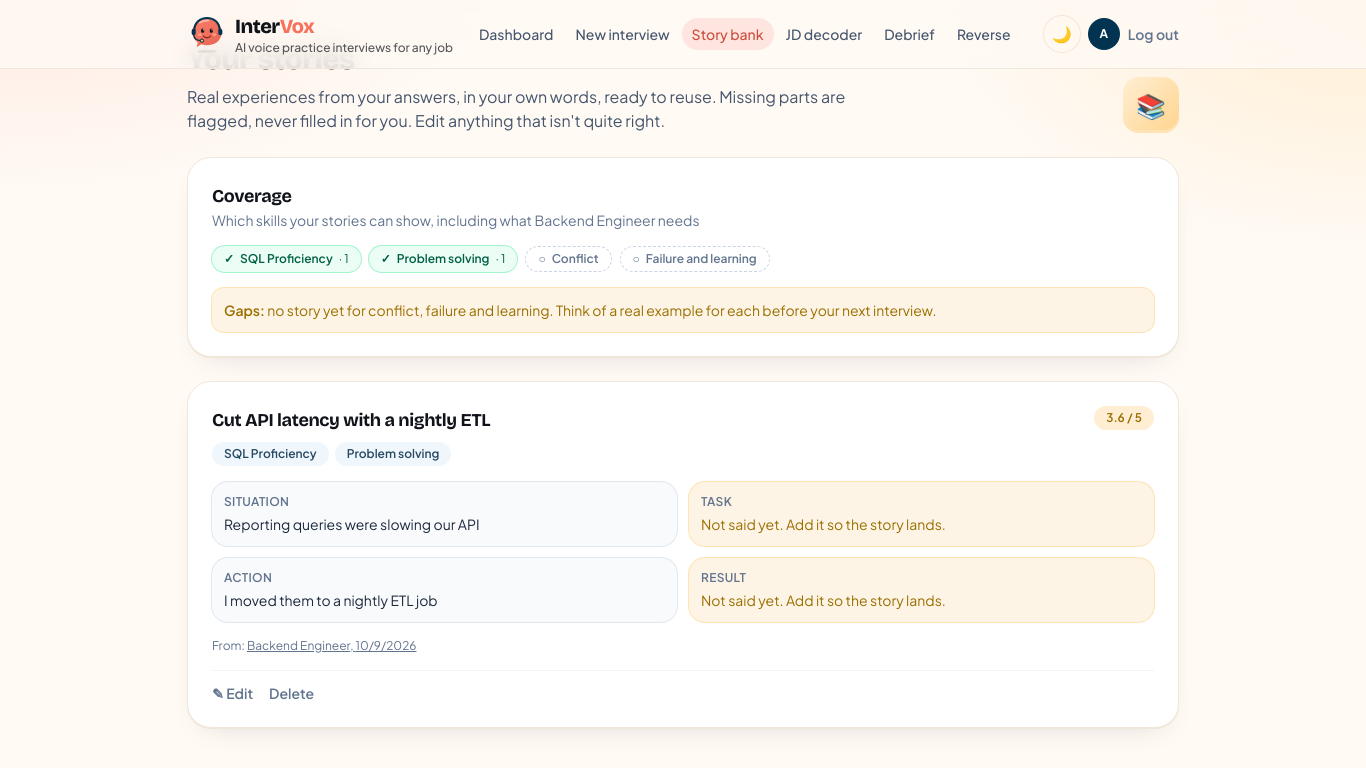
Test: story bank › deletes a story after confirming
(page scrolled)
Click the button "Delete": [292, 693] box [269,683,314,703]
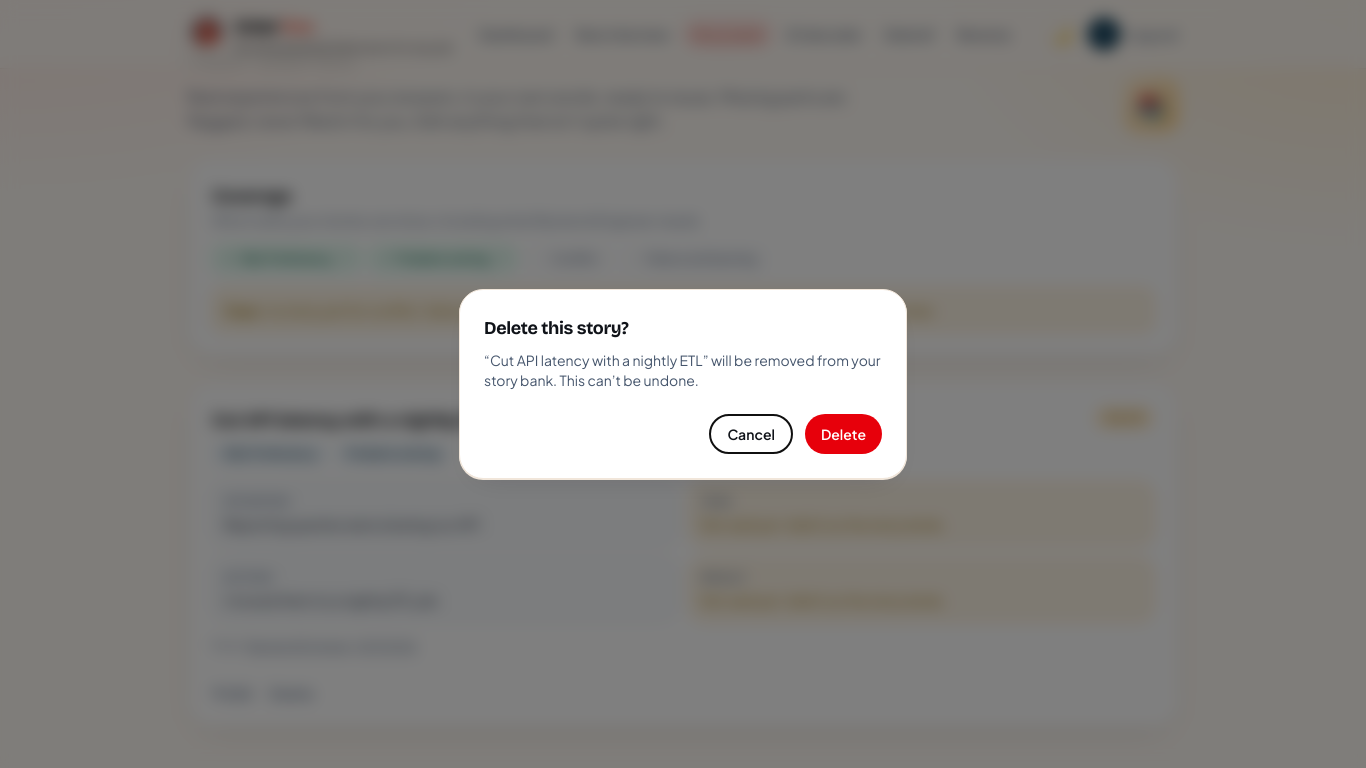
Click the button "Delete": [843, 434] box [805,414,882,454]
(page scrolled)
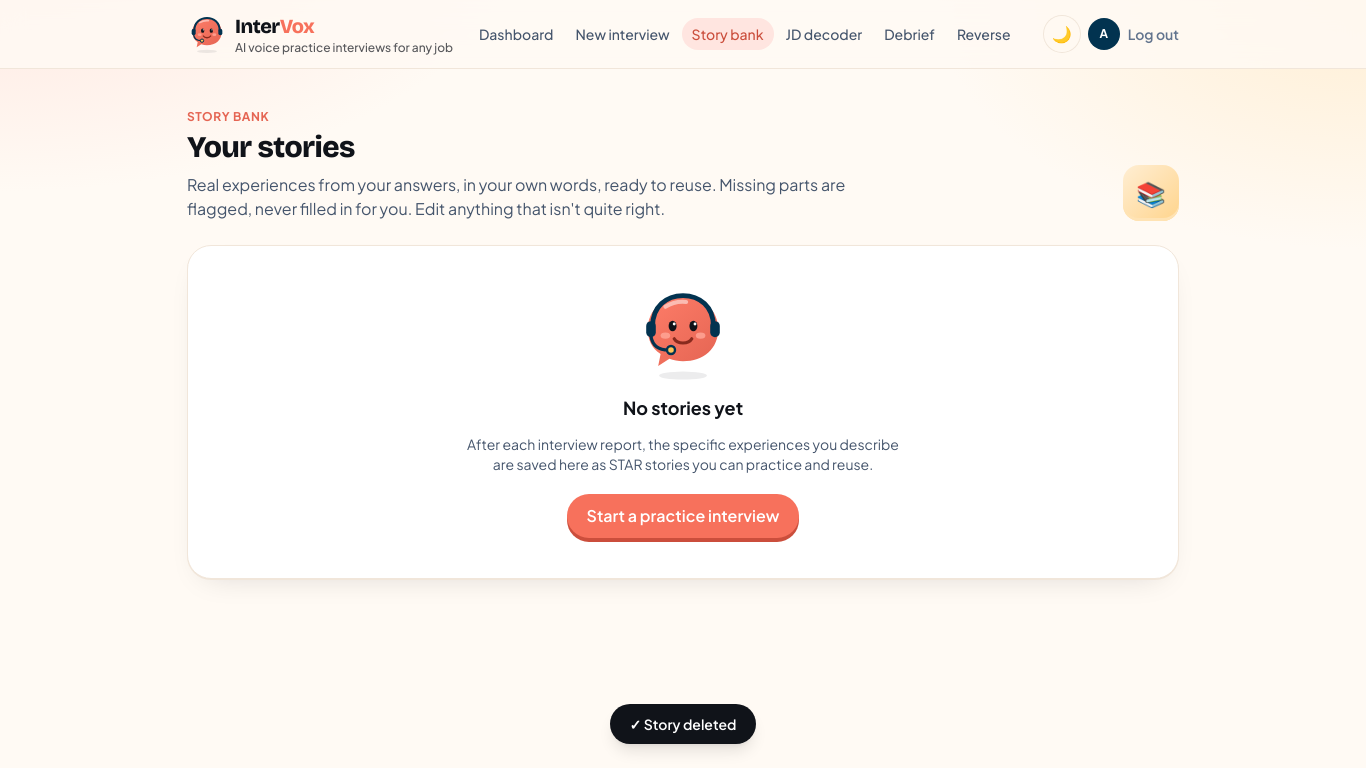
Expected: the text "No stories yet" is shown, [623,394,743,422]
Expected: the message shows "Story deleted", [644,715,736,733]
